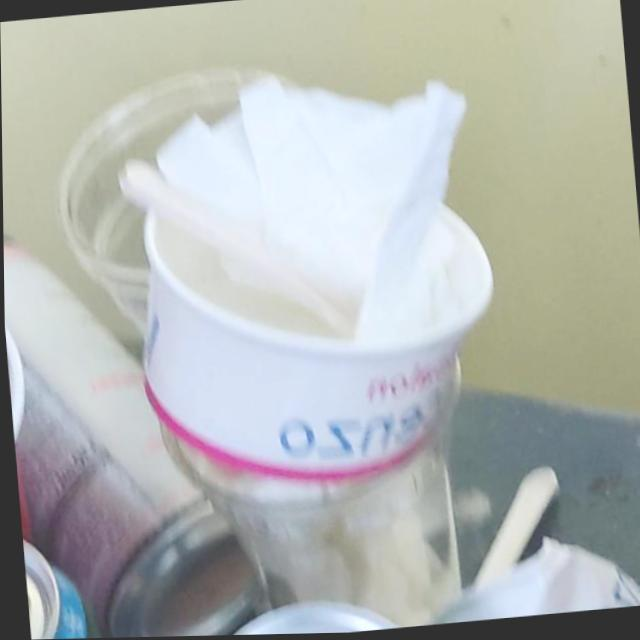Can-Metal: (2, 197, 264, 640), (202, 588, 422, 637), (19, 512, 103, 640)
Cup: (3, 272, 40, 543)
Paper: (118, 137, 518, 507), (111, 55, 488, 367)
